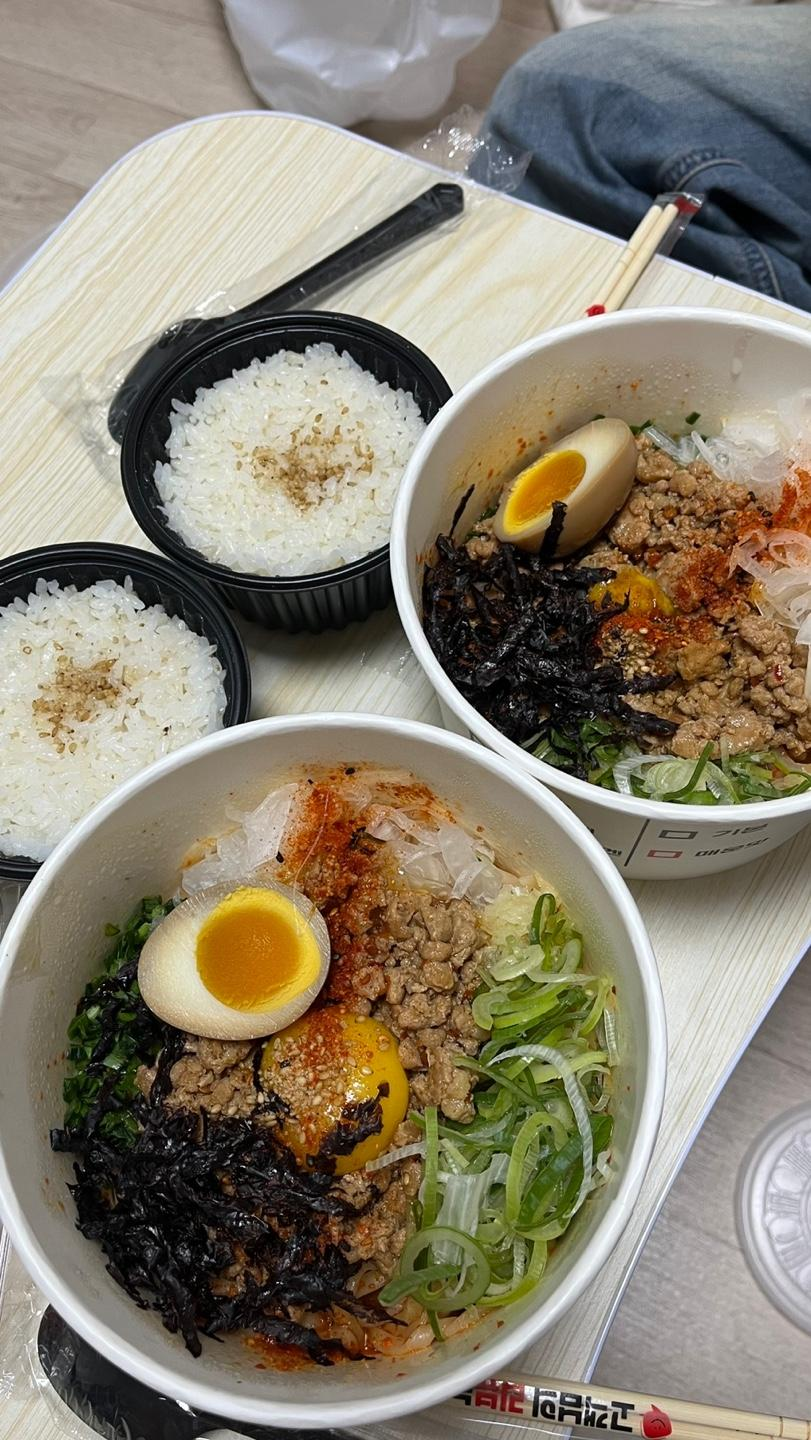Lunch Box: (0, 714, 666, 1428), (392, 309, 810, 879), (120, 312, 452, 633), (0, 543, 250, 880)
